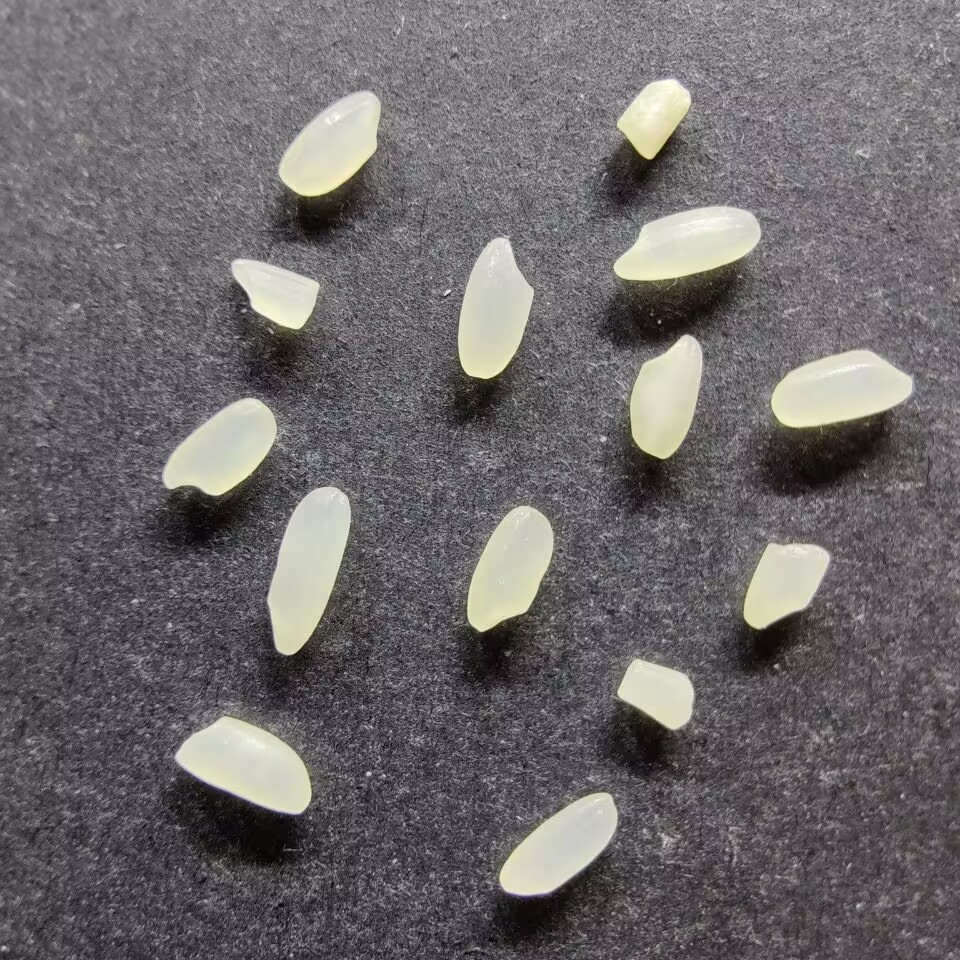broken: (740, 541, 832, 632), (226, 256, 321, 332), (614, 77, 691, 161), (614, 656, 696, 733)
rice: (265, 484, 352, 658), (171, 713, 313, 817), (496, 789, 619, 897), (769, 346, 916, 429), (160, 396, 278, 497), (611, 204, 763, 282), (275, 87, 381, 198), (464, 504, 555, 633), (455, 234, 535, 380), (627, 332, 705, 460)
